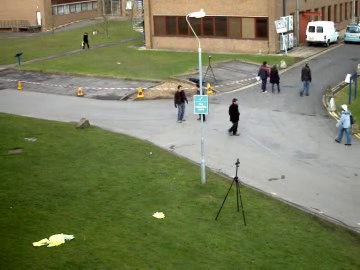person: (174, 84, 189, 120), (174, 85, 189, 121), (174, 86, 189, 122)
